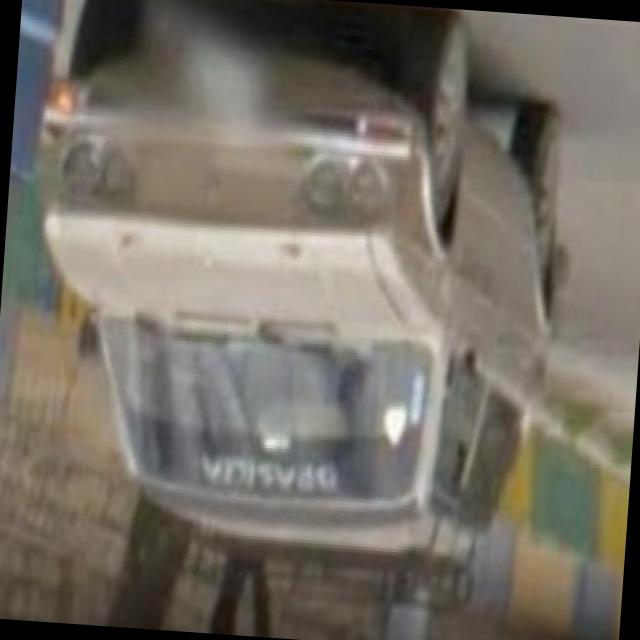car: (9, 0, 590, 597)
